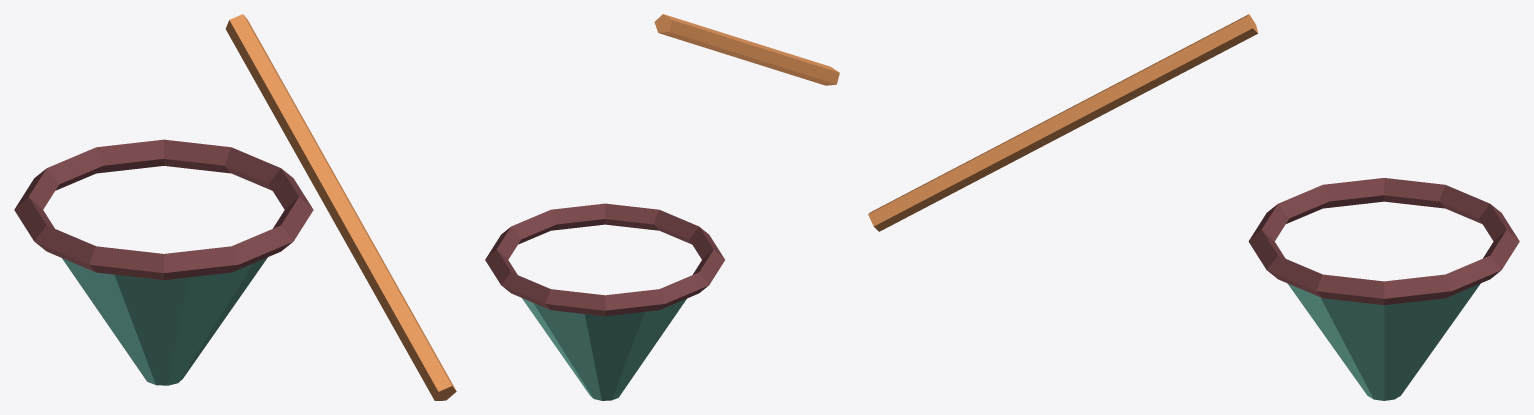
The model's file is net.glb.
3 views of the same model, side by side, from view 1: azimuth 30°, elevation 25°; view 2: azimuth 150°, elevation 25°; view 3: azimuth 270°, elevation 25° (orthographic). The views are drawn at different scales.
Parts seen in each view (by area): view 1: Hoop, Bag, Handle; view 2: Hoop, Bag, Handle; view 3: Hoop, Bag, Handle.
Boxes of the visible parts, box(x1,y1,x2,y2) form: Hoop: box(14, 139, 313, 279); Bag: box(62, 257, 267, 385); Handle: box(225, 14, 456, 400); Hoop: box(485, 203, 724, 316); Bag: box(522, 298, 686, 400); Handle: box(654, 14, 839, 85); Hoop: box(1248, 178, 1519, 305); Bag: box(1287, 283, 1480, 400); Handle: box(868, 14, 1258, 231).
Size of the model in its own units: 0.93 by 1.43 by 2.23.
